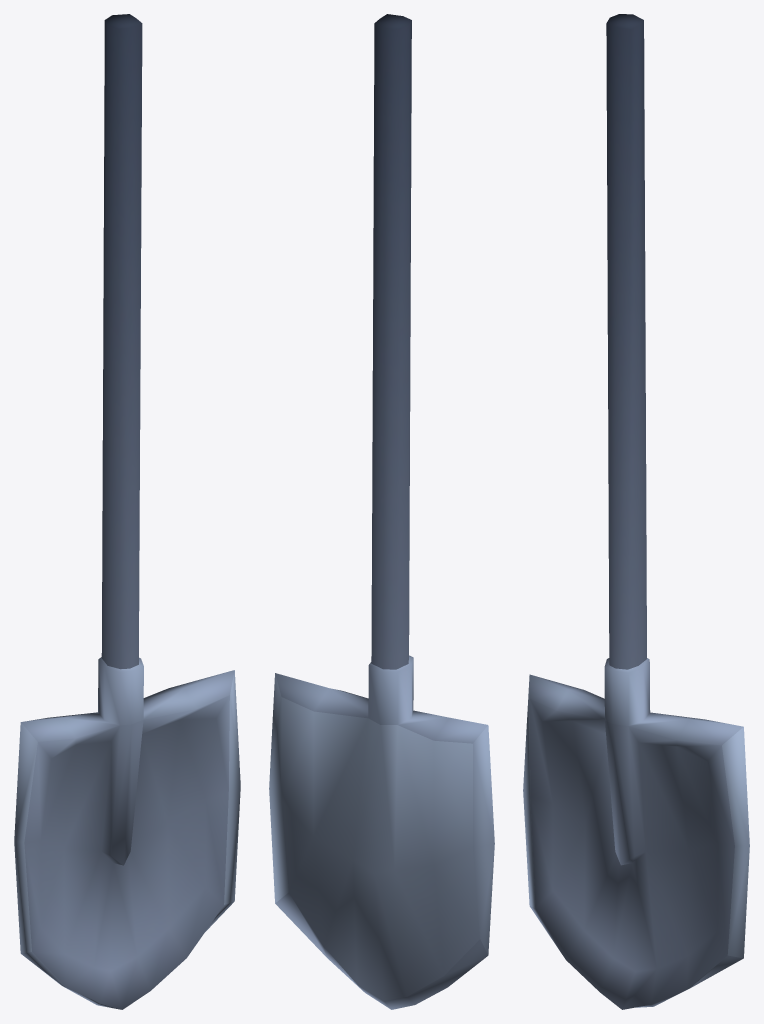
Rendered from 4shovel.fbx.
3 renders of one model, left to right at view 1: azimuth 30°, elevation 25°; view 2: azimuth 150°, elevation 25°; view 3: azimuth 330°, elevation 25°, orthographic.
Parts seen in each view (by area): view 1: shovel4; view 2: shovel4; view 3: shovel4.
Boxes of the visible parts, x1=… form: shovel4: x1=14, y1=14, x2=240, y2=1009; shovel4: x1=269, y1=14, x2=494, y2=1009; shovel4: x1=523, y1=14, x2=749, y2=1009.
Size of the model in its own units: 0.2433 by 1.01 by 0.0601.
